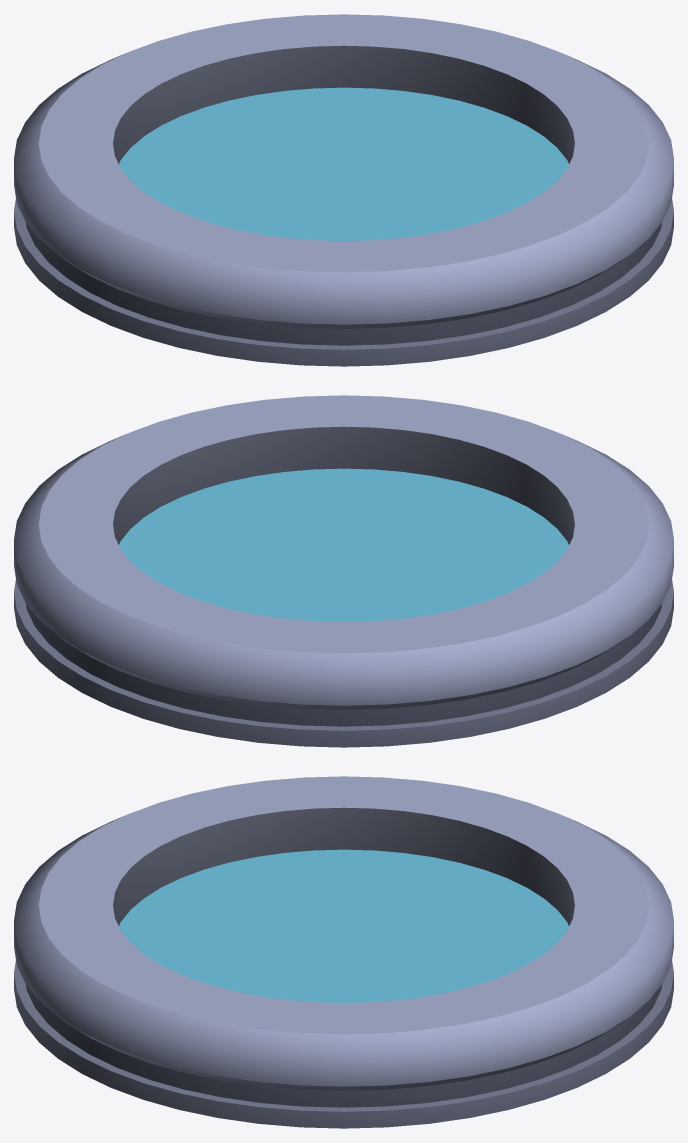
The model's file is fountain-round.glb.
3 views of the same model, one above another, from view 1: azimuth 30°, elevation 25°; view 2: azimuth 150°, elevation 25°; view 3: azimuth 270°, elevation 25° (orthographic).
Parts seen in each view (by area): view 1: fountain-round; view 2: fountain-round; view 3: fountain-round.
Part boxes in pixels (x1=…): fountain-round: x1=14, y1=14, x2=673, y2=366; fountain-round: x1=14, y1=395, x2=673, y2=747; fountain-round: x1=14, y1=776, x2=673, y2=1128.
Size of the model in its own units: 2 by 0.28 by 2.
